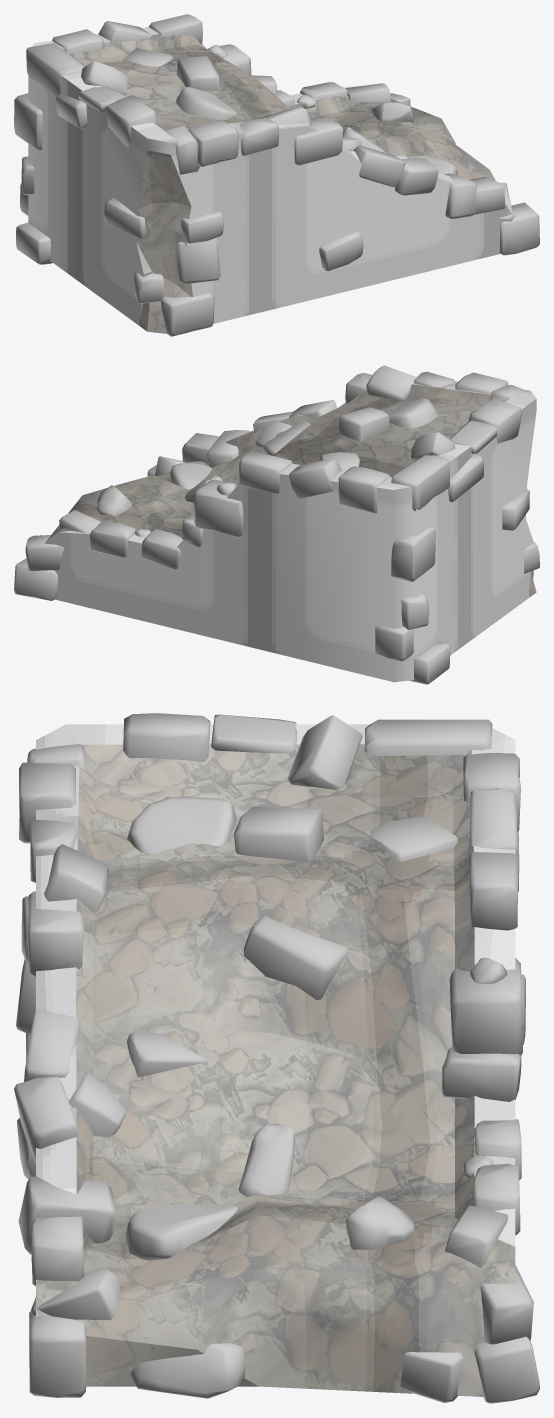
Rendered from SM_Ruins_05.fbx.
The picture shows the model from 3 angles, top to bottom: view 1: azimuth 30°, elevation 25°; view 2: azimuth 150°, elevation 25°; view 3: azimuth 270°, elevation 25°; orthographic projection. The views are drawn at different scales.
Parts seen in each view (by area): view 1: SM_Ruins_05_LOD0; view 2: SM_Ruins_05_LOD0; view 3: SM_Ruins_05_LOD0.
Boxes of the visible parts, <box> form: SM_Ruins_05_LOD0: <box>14,14,539,336</box>; SM_Ruins_05_LOD0: <box>14,365,539,684</box>; SM_Ruins_05_LOD0: <box>14,713,539,1403</box>.
Size of the model in its own units: 743 by 473 by 374.
